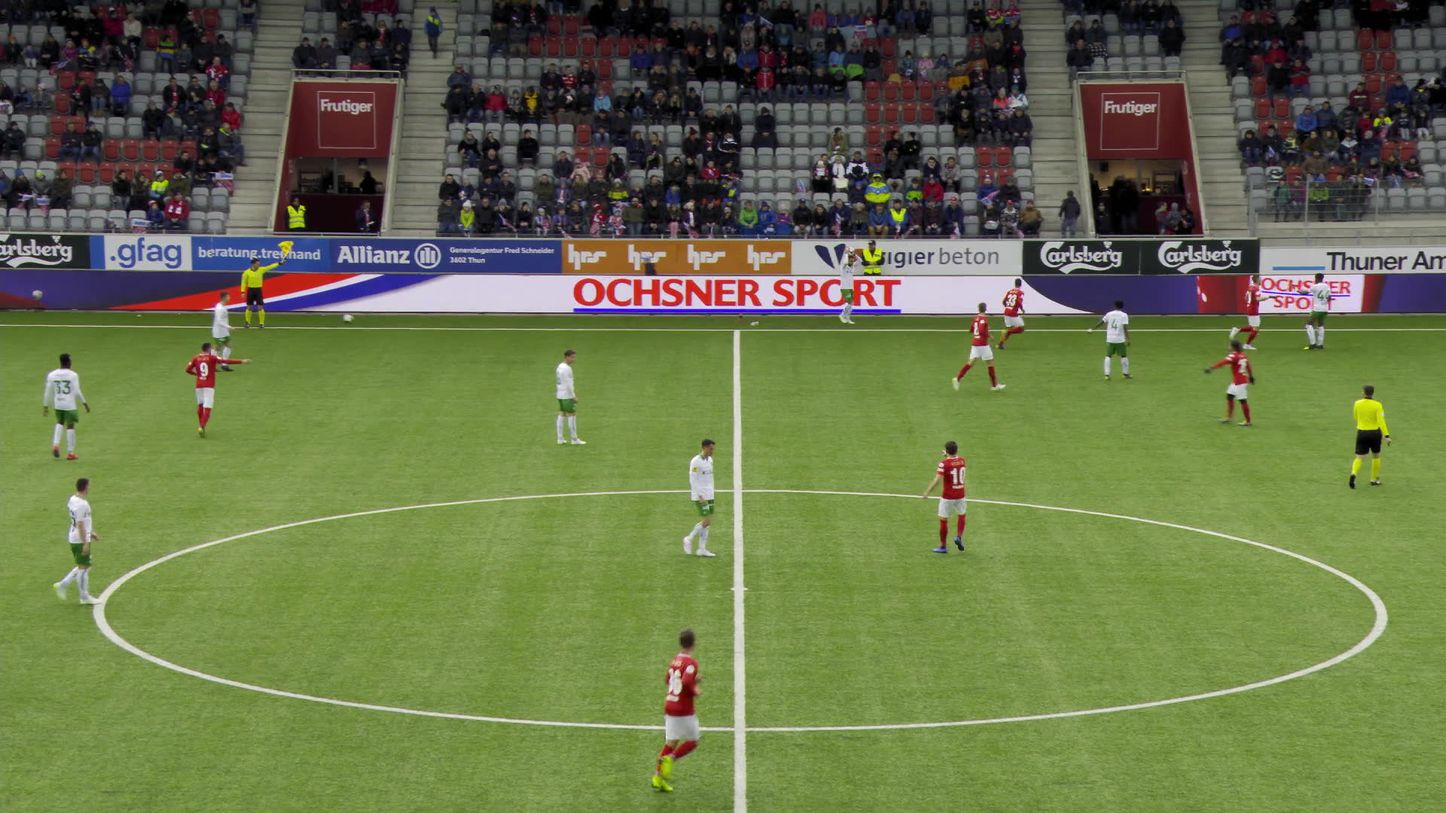ball: (845, 247, 856, 258), (348, 314, 360, 324)
player: (643, 632, 698, 793), (44, 477, 107, 604), (186, 345, 253, 439), (677, 438, 721, 558), (48, 351, 94, 460), (927, 441, 969, 553), (1211, 340, 1260, 428), (952, 303, 999, 393), (1091, 300, 1137, 382), (1224, 274, 1271, 351), (559, 349, 590, 446), (1297, 273, 1332, 350), (990, 279, 1024, 351), (213, 291, 240, 373), (834, 249, 863, 324)
referee: (244, 238, 296, 330), (1349, 385, 1393, 491)
